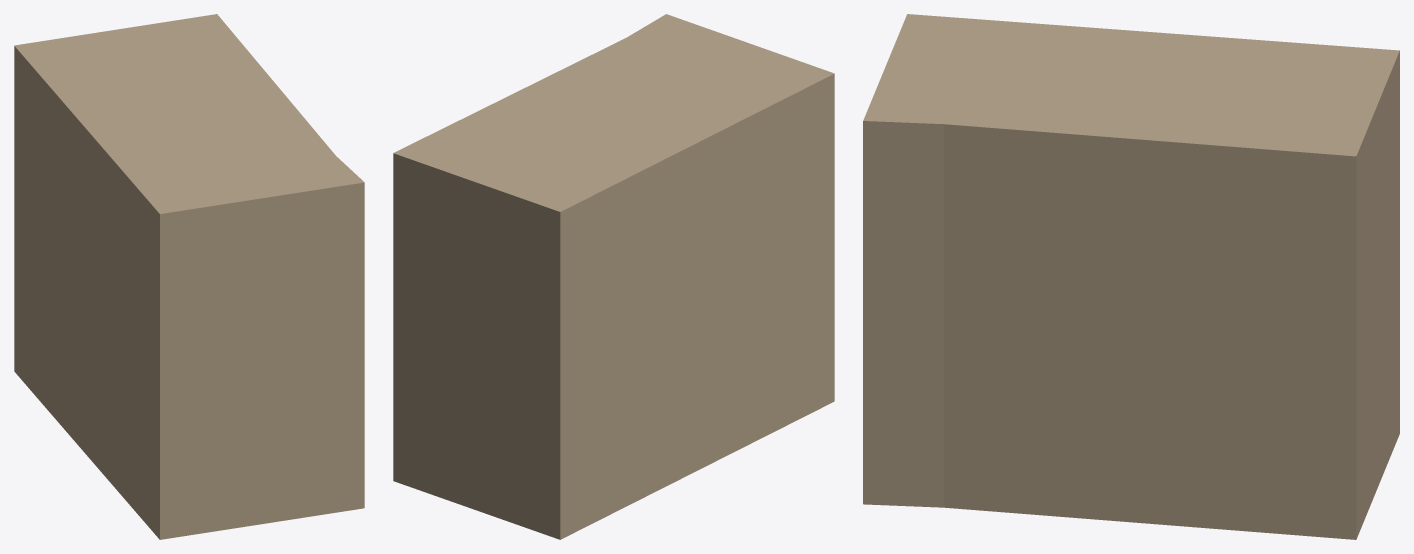
The model's file is bld_99020426.dae.
3 views of the same model, side by side, from view 1: azimuth 30°, elevation 25°; view 2: azimuth 150°, elevation 25°; view 3: azimuth 270°, elevation 25° (orthographic). The views are drawn at different scales.
Visible parts, largest first — view 1: bld_99020426; view 2: bld_99020426; view 3: bld_99020426.
Boxes of the visible parts, box(x1,y1,x2,y2) form: bld_99020426: box(14, 14, 364, 539); bld_99020426: box(393, 14, 834, 539); bld_99020426: box(863, 14, 1399, 539).
Bounding box in the file's own units: 6.37 × 10.15 × 8.
